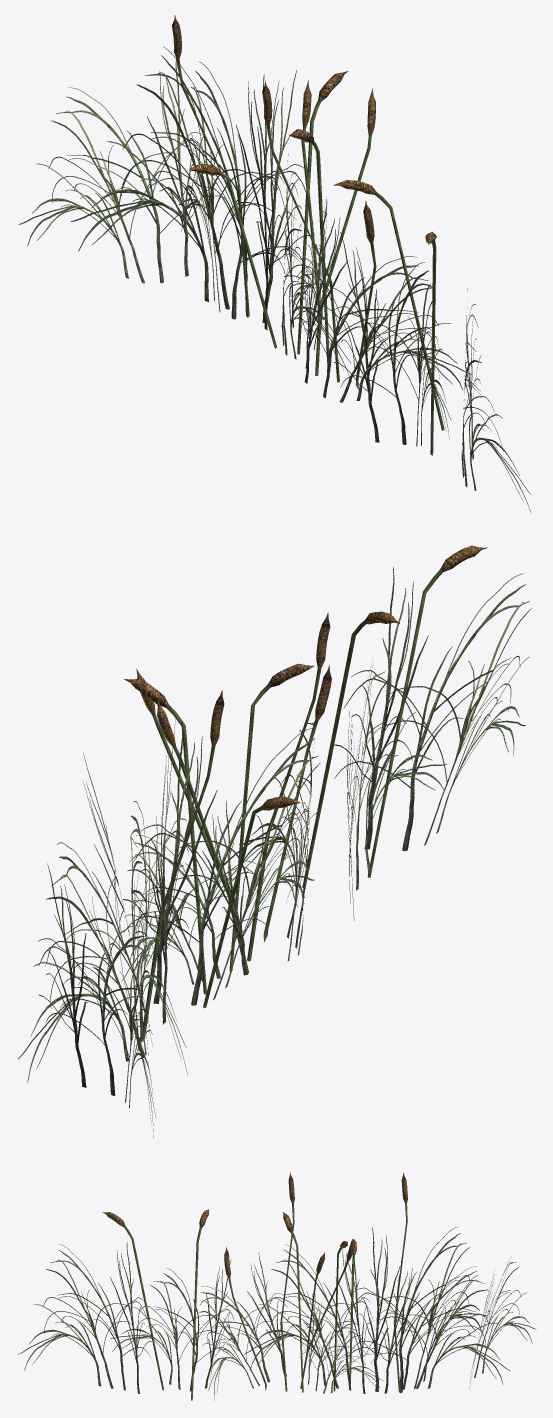
The model's file is shrub_cattail_02.DAE.
3 views of the same model, one above another, from view 1: azimuth 30°, elevation 25°; view 2: azimuth 150°, elevation 25°; view 3: azimuth 270°, elevation 25° (orthographic). The views are drawn at different scales.
Parts seen in each view (by area): view 1: shrub_cattail_01_CattailBlades001, shrub_cattail_01_CattailBlades, shrub_cattail_01_CattailStalk; view 2: shrub_cattail_01_CattailBlades001, shrub_cattail_01_CattailStalk, shrub_cattail_01_CattailBlades; view 3: shrub_cattail_01_CattailBlades, shrub_cattail_01_CattailBlades001, shrub_cattail_01_CattailStalk.
Boxes of the visible parts, x1,y1,x2,y2 form: shrub_cattail_01_CattailBlades001: [18, 47, 530, 512]; shrub_cattail_01_CattailBlades: [71, 46, 480, 477]; shrub_cattail_01_CattailStalk: [172, 15, 444, 455]; shrub_cattail_01_CattailBlades001: [18, 567, 531, 1107]; shrub_cattail_01_CattailStalk: [124, 545, 487, 1037]; shrub_cattail_01_CattailBlades: [38, 664, 446, 1137]; shrub_cattail_01_CattailBlades: [18, 1242, 535, 1400]; shrub_cattail_01_CattailBlades001: [38, 1226, 525, 1398]; shrub_cattail_01_CattailStalk: [102, 1172, 407, 1400].
Size of the model in its own units: 1.43 by 2.22 by 5.16.
